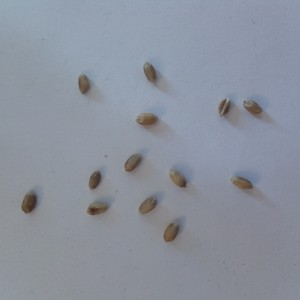trigo: (165, 164, 188, 189), (227, 173, 255, 193), (240, 96, 265, 118), (141, 59, 162, 85), (19, 188, 39, 215), (162, 219, 183, 244), (135, 193, 157, 216), (123, 151, 143, 174), (85, 199, 109, 218), (134, 111, 160, 128), (76, 71, 91, 96), (215, 96, 230, 116), (87, 172, 102, 192)
